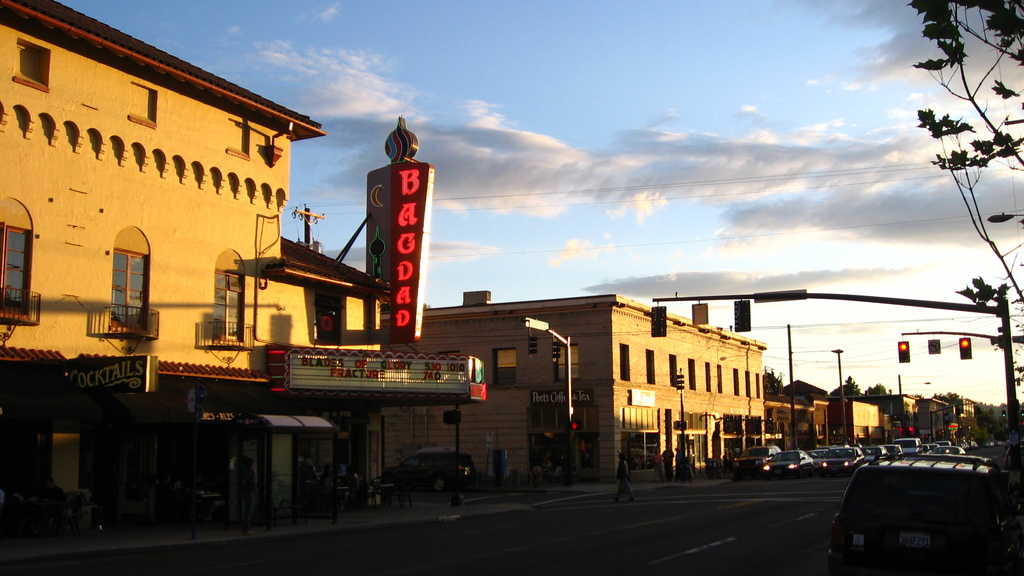Car: (830, 455, 1015, 575), (731, 436, 975, 478), (386, 446, 472, 494)
